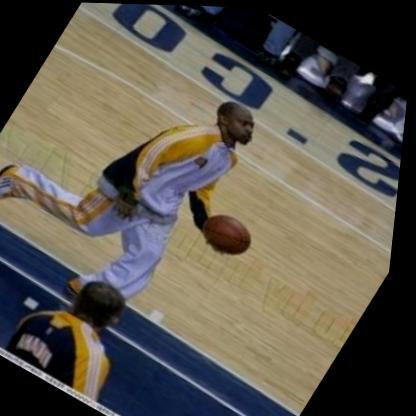basketball: (192, 199, 271, 266)
